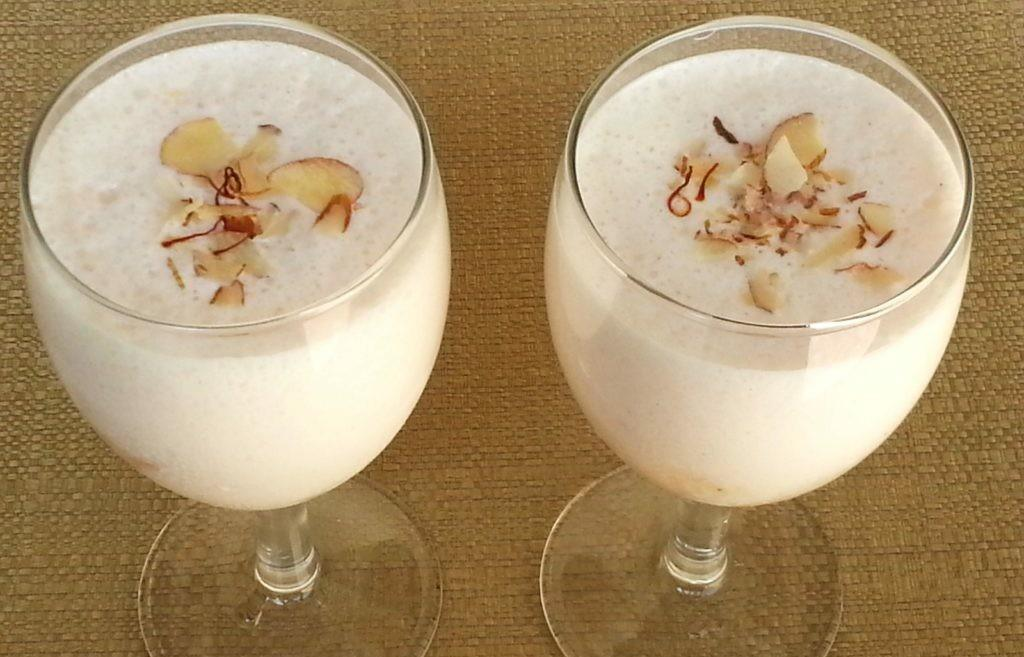Lassi: (22, 38, 451, 510), (544, 49, 972, 507)
